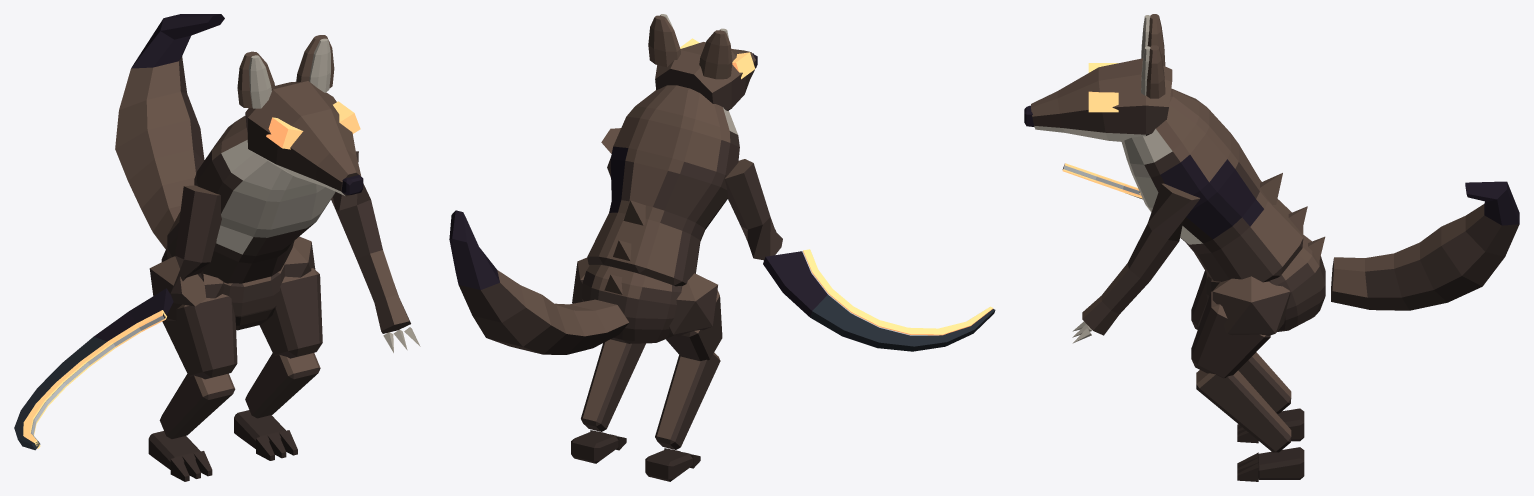
File: enemy_1.glb
The picture shows the model from 3 angles, left to right: view 1: azimuth 30°, elevation 25°; view 2: azimuth 150°, elevation 25°; view 3: azimuth 270°, elevation 25°; orthographic projection. The views are drawn at different scales.
Parts seen in each view (by area): view 1: Torso, Head, Leg_R, Leg_L, ArmBlade_R, Tail_2, Tail_1, Arm_L, Hips, BladeGlow, EyesGlow; view 2: Torso, ArmBlade_R, Leg_R, Tail_2, Head, Leg_L, Hips, Tail_1, BladeGlow; view 3: Torso, Leg_L, Head, Tail_1, Arm_L, Tail_2, Hips, Leg_R, EyesGlow.
Boxes of the visible parts, x1,y1,x2,y2 form: Torso: [167, 115, 335, 283]; Head: [237, 35, 363, 196]; Leg_R: [148, 256, 237, 481]; Leg_L: [234, 236, 322, 460]; ArmBlade_R: [14, 185, 221, 450]; Tail_2: [115, 14, 224, 148]; Tail_1: [115, 120, 204, 248]; Arm_L: [331, 151, 420, 352]; Hips: [161, 247, 285, 330]; BladeGlow: [23, 310, 166, 448]; EyesGlow: [266, 101, 360, 149]; Torso: [587, 85, 739, 294]; ArmBlade_R: [724, 159, 995, 351]; Leg_R: [645, 273, 722, 481]; Tail_2: [449, 210, 550, 346]; Head: [648, 14, 757, 110]; Leg_L: [571, 257, 645, 463]; Hips: [581, 265, 682, 343]; Tail_1: [488, 295, 629, 354]; BladeGlow: [803, 249, 993, 335]; Torso: [1121, 88, 1325, 282]; Leg_L: [1191, 276, 1304, 481]; Head: [1024, 14, 1172, 141]; Tail_1: [1331, 227, 1482, 310]; Arm_L: [1072, 183, 1200, 343]; Tail_2: [1441, 181, 1519, 286]; Hips: [1206, 235, 1325, 331]; Leg_R: [1191, 271, 1304, 443]; EyesGlow: [1088, 63, 1118, 112].
Bounding box in the file's own units: 1.25 × 1.33 × 1.41.
